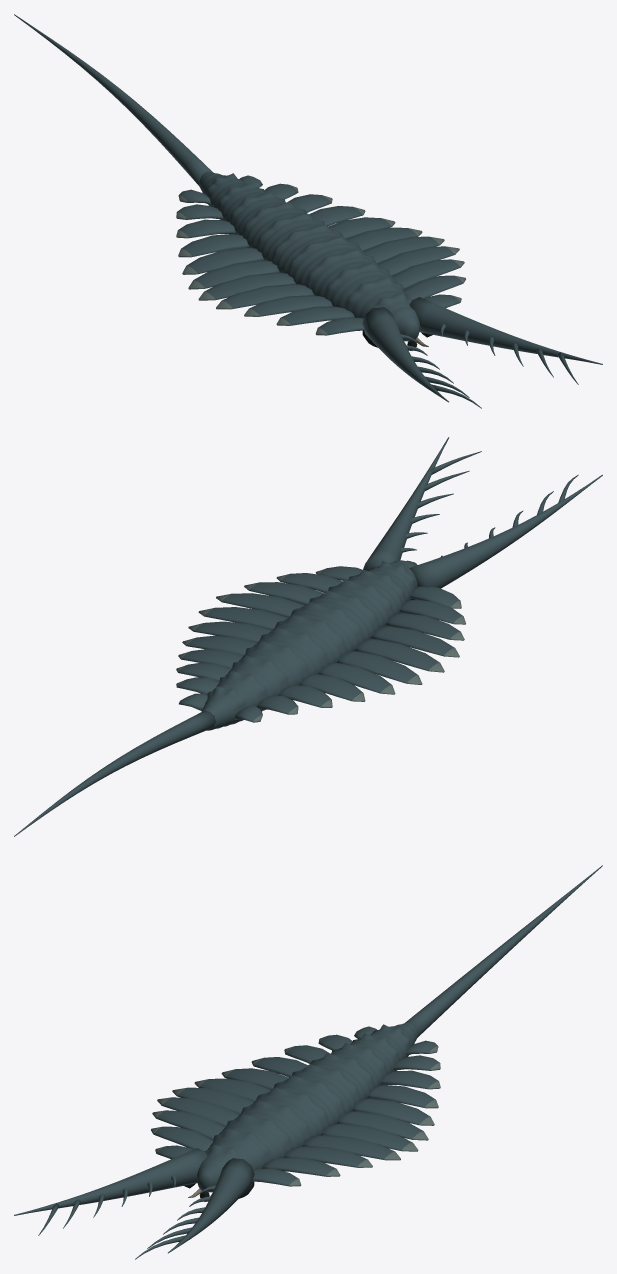
The picture shows the model from 3 angles, top to bottom: view 1: azimuth 30°, elevation 25°; view 2: azimuth 150°, elevation 25°; view 3: azimuth 330°, elevation 25°; orthographic projection.
Visible parts, largest first — view 1: eleven-bilateral-flap-pairs, soft-trunk-integrated-44-tubercles, right-frontal-appendage-six-spines, left-frontal-appendage-six-spines, single-median-tail-spine; view 2: eleven-bilateral-flap-pairs, soft-trunk-integrated-44-tubercles, left-frontal-appendage-six-spines, right-frontal-appendage-six-spines, single-median-tail-spine; view 3: eleven-bilateral-flap-pairs, soft-trunk-integrated-44-tubercles, left-frontal-appendage-six-spines, right-frontal-appendage-six-spines, single-median-tail-spine.
Boxes of the visible parts, box(x1,y1,x2,y2) form: eleven-bilateral-flap-pairs: box(176, 175, 465, 335); soft-trunk-integrated-44-tubercles: box(199, 171, 420, 341); right-frontal-appendage-six-spines: box(409, 297, 602, 384); left-frontal-appendage-six-spines: box(362, 307, 481, 408); single-median-tail-spine: box(14, 14, 212, 186); eleven-bilateral-flap-pairs: box(176, 566, 465, 722); soft-trunk-integrated-44-tubercles: box(201, 560, 417, 730); left-frontal-appendage-six-spines: box(409, 474, 602, 588); right-frontal-appendage-six-spines: box(363, 437, 481, 570); single-median-tail-spine: box(14, 710, 216, 836); eleven-bilateral-flap-pairs: box(151, 1026, 440, 1186); soft-trunk-integrated-44-tubercles: box(196, 1022, 417, 1192); left-frontal-appendage-six-spines: box(14, 1148, 207, 1235); right-frontal-appendage-six-spines: box(135, 1158, 254, 1259); single-median-tail-spine: box(405, 865, 602, 1037).
Size of the model in its own units: 0.0442 by 0.00996 by 0.1614.
